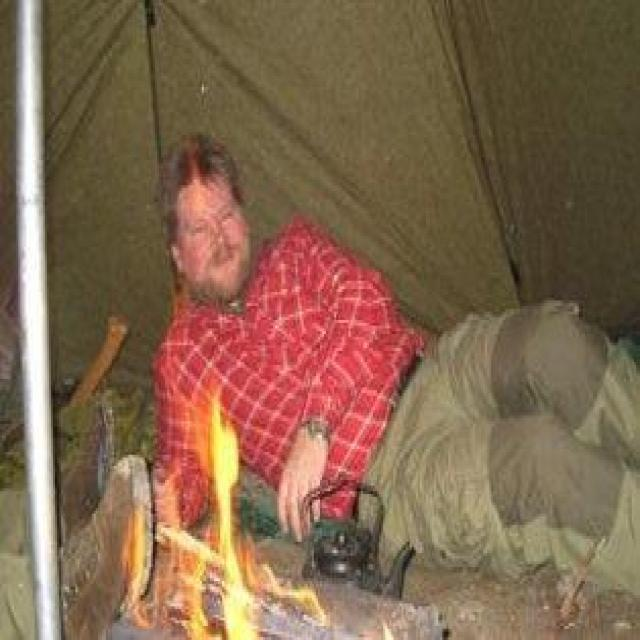fire: (109, 383, 323, 632)
other: (212, 255, 395, 415)
